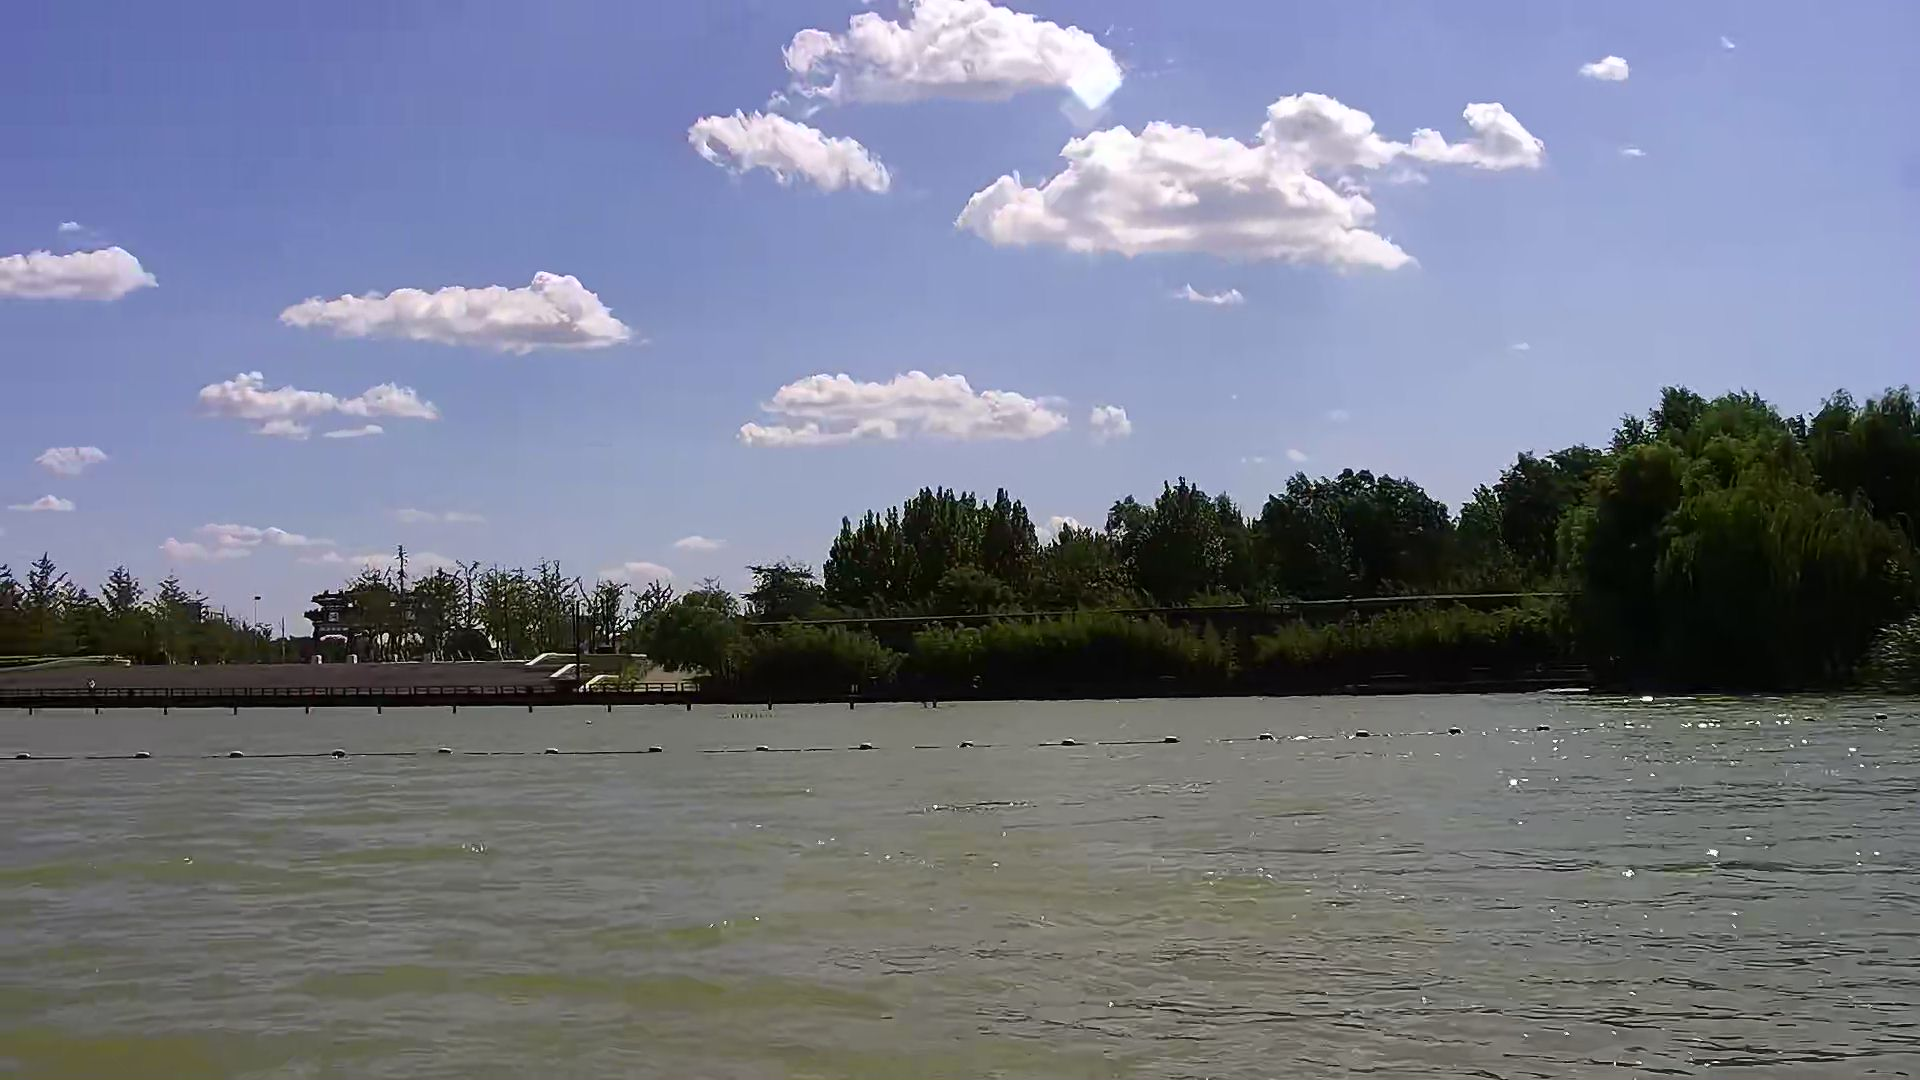ball: (433, 738, 464, 762), (1156, 731, 1187, 753), (645, 738, 671, 764), (124, 742, 160, 760), (11, 745, 37, 767), (322, 742, 349, 764), (225, 740, 243, 767)
harbor: (1, 657, 716, 705)
